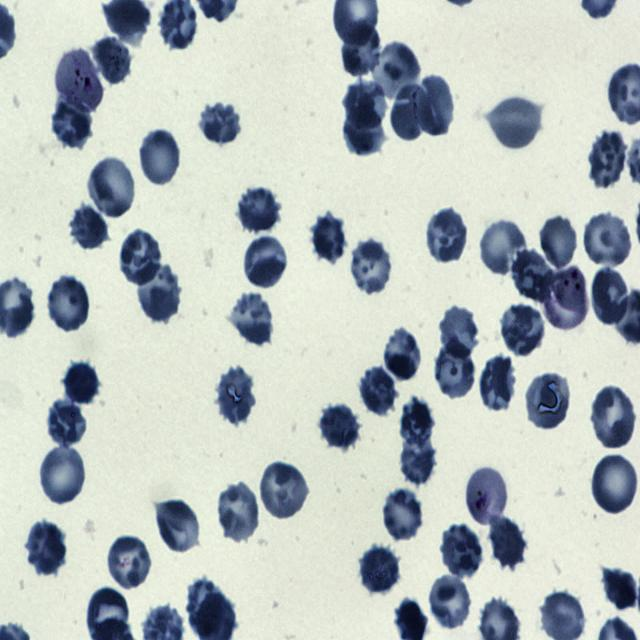red blood cell: (589, 451, 640, 516), (87, 155, 137, 219), (487, 94, 543, 150), (259, 460, 311, 520), (582, 208, 633, 269), (38, 444, 88, 506), (591, 384, 637, 449), (372, 40, 420, 102), (478, 218, 528, 276), (526, 371, 572, 432), (434, 339, 478, 401), (348, 237, 394, 296), (106, 535, 154, 591), (216, 480, 260, 541), (138, 127, 182, 187), (428, 574, 474, 631), (46, 274, 91, 332), (380, 486, 425, 544), (228, 291, 274, 347), (137, 264, 181, 322), (155, 498, 200, 554), (24, 520, 68, 577), (214, 366, 256, 425), (590, 266, 630, 326), (243, 236, 289, 288), (439, 524, 483, 578), (341, 105, 385, 159), (512, 246, 555, 301), (588, 130, 628, 189), (341, 19, 381, 78), (120, 229, 162, 285), (479, 355, 518, 415), (539, 214, 580, 271), (418, 76, 456, 137), (426, 208, 468, 263), (502, 303, 544, 357), (397, 434, 438, 488), (391, 86, 429, 143), (488, 514, 528, 568), (238, 185, 282, 234), (46, 398, 89, 448), (52, 98, 94, 149), (92, 33, 132, 86), (199, 98, 242, 147), (344, 80, 387, 129), (439, 309, 481, 359), (384, 328, 422, 381), (360, 546, 400, 595), (320, 403, 359, 452), (308, 214, 346, 264), (360, 367, 398, 416), (67, 205, 109, 248), (602, 564, 638, 610), (401, 397, 434, 447), (65, 362, 100, 408)
ring: (56, 47, 104, 114), (546, 264, 590, 332), (464, 465, 508, 528)
